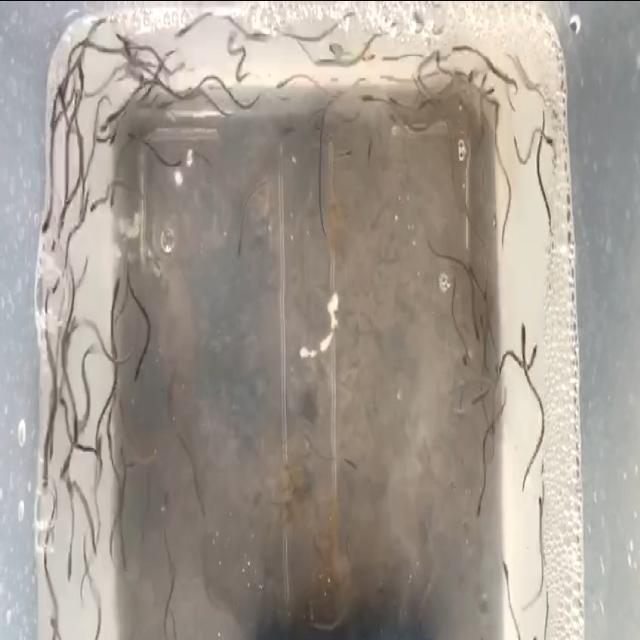inactive_glass_eel: (46, 218, 62, 264), (251, 24, 274, 50), (57, 449, 73, 486), (138, 66, 158, 95), (74, 43, 86, 90), (56, 76, 70, 115), (230, 232, 243, 274), (111, 13, 128, 43), (528, 336, 540, 378), (498, 545, 512, 581), (463, 62, 477, 98), (62, 553, 78, 584), (92, 120, 108, 150), (472, 486, 484, 526), (544, 216, 558, 250), (490, 98, 502, 136), (429, 41, 447, 66), (516, 316, 530, 346), (93, 433, 107, 462), (99, 110, 113, 138), (328, 35, 343, 61), (475, 67, 490, 92), (104, 122, 115, 156), (226, 28, 238, 58), (538, 123, 552, 147), (42, 208, 52, 241), (172, 25, 190, 43), (111, 277, 122, 305), (134, 356, 142, 394), (49, 270, 59, 300), (536, 490, 546, 520), (382, 48, 396, 69), (88, 194, 100, 218), (445, 35, 457, 59), (377, 70, 392, 88), (358, 90, 373, 108), (120, 40, 138, 54), (274, 74, 286, 95), (126, 124, 138, 142), (486, 78, 496, 96)
